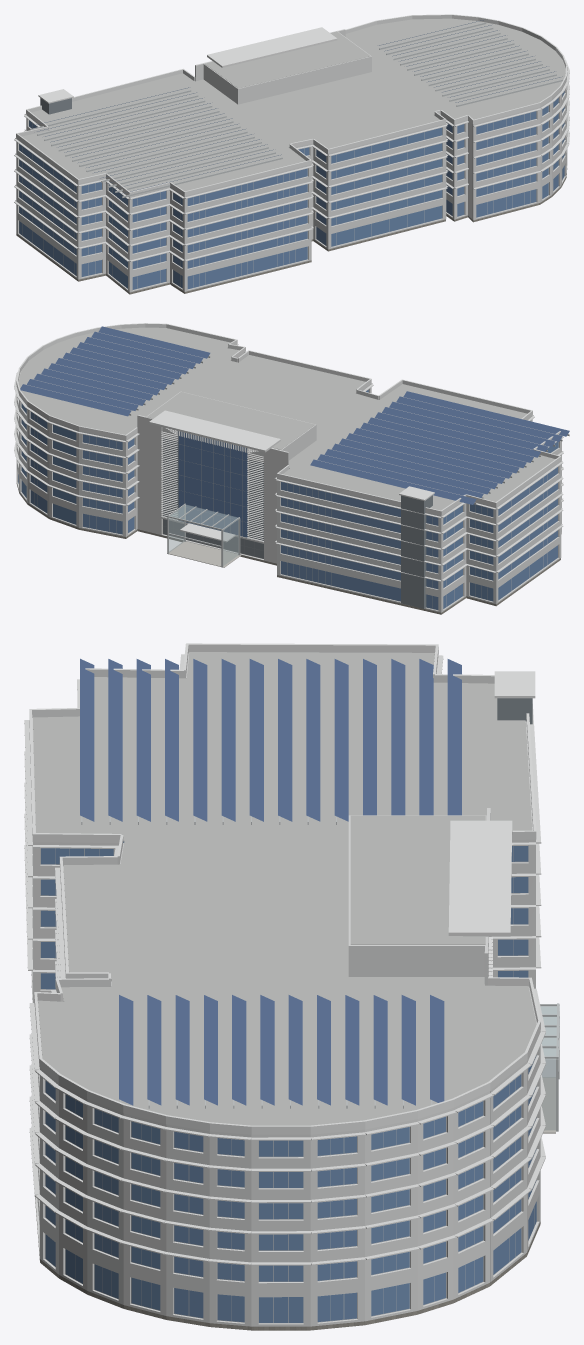
The picture shows the model from 3 angles, top to bottom: view 1: azimuth 30°, elevation 25°; view 2: azimuth 150°, elevation 25°; view 3: azimuth 270°, elevation 25°; orthographic projection. The views are drawn at different scales.
Parts seen in each view (by area): view 1: knowledge__roof, knowledge__panel, knowledge__glass, knowledge__steel, knowledge__ledge, knowledge__cap, knowledge__mullion, knowledge__solar, knowledge__plinth, knowledge__foundation, knowledge__greyglass; view 2: knowledge__roof, knowledge__solar, knowledge__panel, knowledge__glass, knowledge__cap, knowledge__ledge, knowledge__curtainglass, knowledge__greyglass, knowledge__mullion, knowledge__louvre, knowledge__cubeglass, knowledge__plinth (+3 smaller); view 3: knowledge__roof, knowledge__panel, knowledge__solar, knowledge__glass, knowledge__cap, knowledge__ledge, knowledge__mullion, knowledge__plinth, knowledge__cubeglass, knowledge__steel.
Part boxes in pixels (bbox=[...]): knowledge__roof: bbox=[22, 18, 565, 191]; knowledge__panel: bbox=[16, 29, 567, 292]; knowledge__glass: bbox=[19, 91, 564, 289]; knowledge__steel: bbox=[30, 22, 563, 197]; knowledge__ledge: bbox=[14, 61, 569, 261]; knowledge__cap: bbox=[16, 14, 567, 196]; knowledge__mullion: bbox=[19, 94, 564, 289]; knowledge__solar: bbox=[29, 20, 562, 193]; knowledge__plinth: bbox=[16, 169, 567, 293]; knowledge__foundation: bbox=[16, 179, 565, 294]; knowledge__greyglass: bbox=[40, 98, 289, 147]; knowledge__roof: bbox=[18, 327, 555, 510]; knowledge__solar: bbox=[20, 326, 569, 504]; knowledge__panel: bbox=[16, 344, 561, 612]; knowledge__glass: bbox=[18, 390, 558, 609]; knowledge__cap: bbox=[16, 323, 561, 542]; knowledge__ledge: bbox=[14, 344, 563, 581]; knowledge__curtainglass: bbox=[178, 431, 247, 537]; knowledge__greyglass: bbox=[163, 438, 432, 608]; knowledge__mullion: bbox=[22, 408, 558, 610]; knowledge__louvre: bbox=[161, 428, 263, 541]; knowledge__cubeglass: bbox=[169, 504, 239, 565]; knowledge__plinth: bbox=[16, 459, 561, 614]; knowledge__roof: bbox=[33, 652, 536, 1125]; knowledge__panel: bbox=[31, 653, 540, 1326]; knowledge__solar: bbox=[80, 658, 461, 1105]; knowledge__glass: bbox=[41, 841, 536, 1322]; knowledge__cap: bbox=[29, 643, 540, 1134]; knowledge__ledge: bbox=[24, 654, 545, 1265]; knowledge__mullion: bbox=[40, 846, 536, 1323]; knowledge__plinth: bbox=[35, 1198, 540, 1329]; knowledge__cubeglass: bbox=[540, 1006, 559, 1130]; knowledge__steel: bbox=[81, 816, 559, 1131].
Size of the model in its own units: 131 by 28.98 by 60.57.
16 materials, 3 textured.
